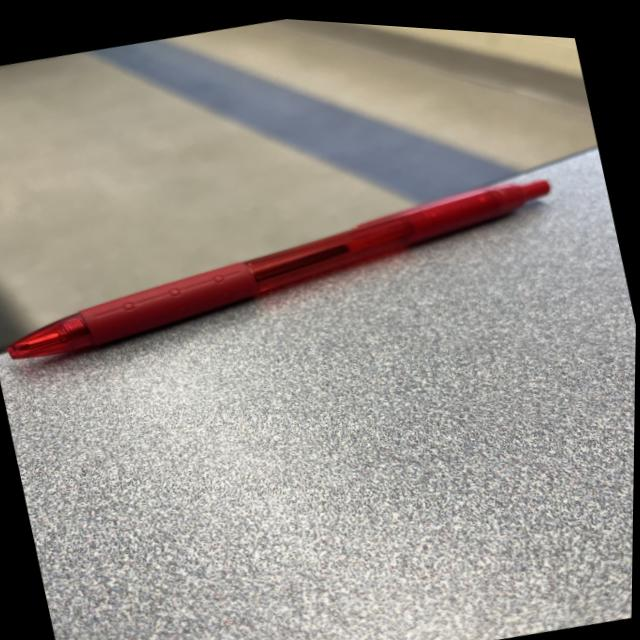pen: (0, 140, 568, 393)
